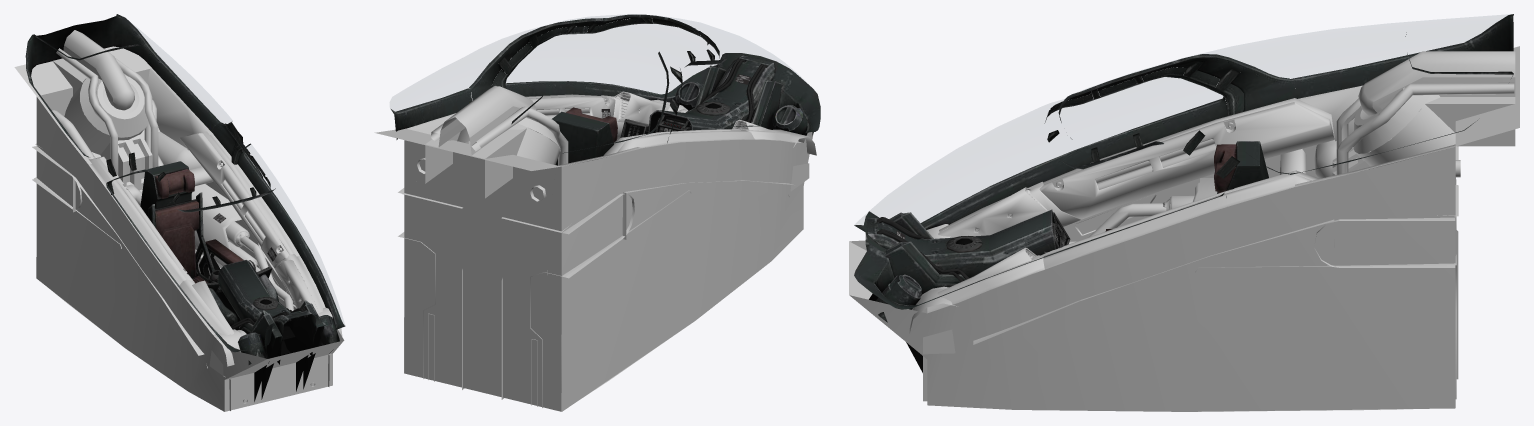
Rendered from CockpitMainDecimated.fbx.
3 renders of one model, left to right at view 1: azimuth 30°, elevation 25°; view 2: azimuth 150°, elevation 25°; view 3: azimuth 270°, elevation 25°, orthographic. The views are drawn at different scales.
Visible parts, largest first — view 1: monitors_displ_0.001; view 2: monitors_displ_0.001; view 3: monitors_displ_0.001.
Part boxes in pixels (x1=…): monitors_displ_0.001: x1=14, y1=14, x2=345, y2=411; monitors_displ_0.001: x1=374, y1=14, x2=820, y2=411; monitors_displ_0.001: x1=849, y1=14, x2=1519, y2=411.
Bounding box in the file's own units: 105 × 166 × 305.
